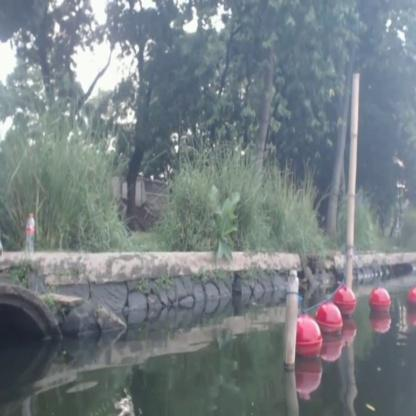red_buoy: (298, 321, 322, 360), (368, 288, 392, 324), (317, 301, 341, 337), (342, 288, 355, 318)
